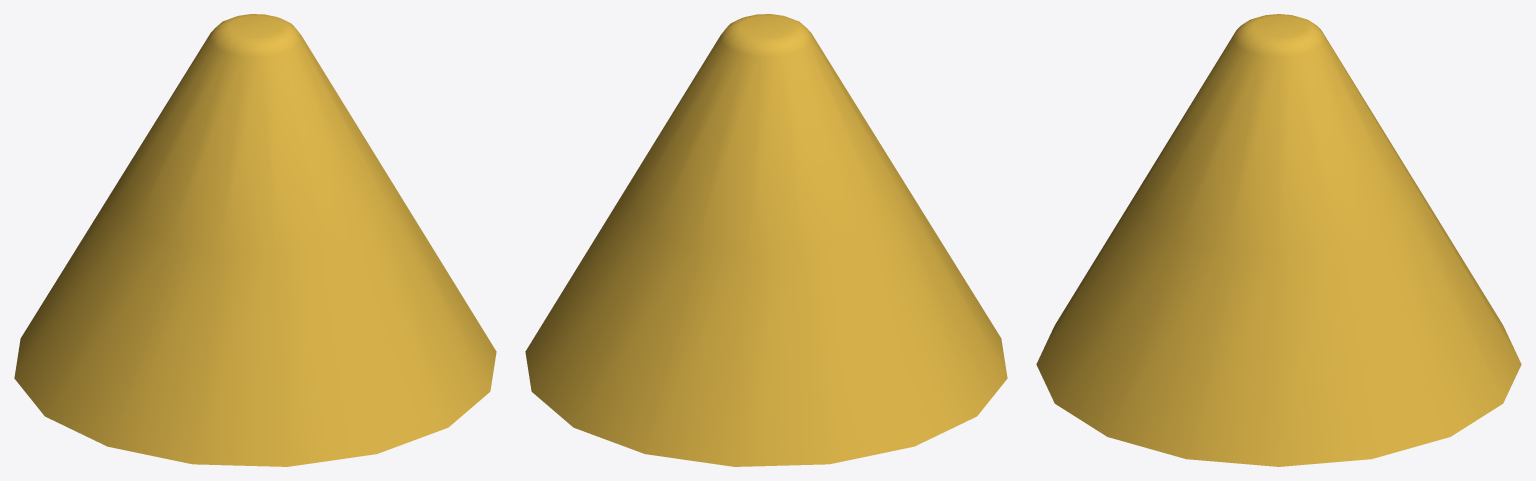
File: Barn@Food.fbx
3 views of the same model, side by side, from view 1: azimuth 30°, elevation 25°; view 2: azimuth 150°, elevation 25°; view 3: azimuth 270°, elevation 25° (orthographic).
Visible parts, largest first — view 1: Food; view 2: Food; view 3: Food.
Part boxes in pixels (x1,y1,x2,y2): Food: (14,14,496,466); Food: (525,14,1007,466); Food: (1036,14,1521,466).
Size of the model in its own units: 110 by 84.29 by 110.
